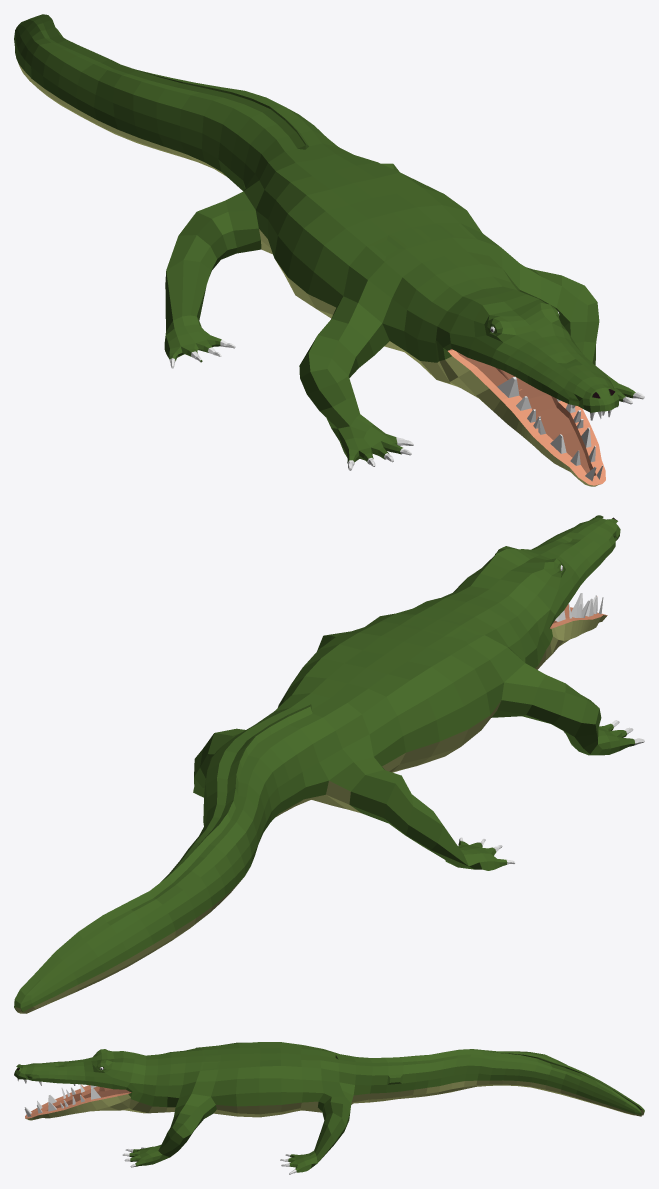
The model's file is alligator.glb.
3 renders of one model, top to bottom at view 1: azimuth 30°, elevation 25°; view 2: azimuth 150°, elevation 25°; view 3: azimuth 270°, elevation 25°, orthographic. The views are drawn at different scales.
Parts seen in each view (by area): view 1: crocodile.004; view 2: crocodile.004; view 3: crocodile.004.
Boxes of the visible parts, x1,y1,x2,y2 form: crocodile.004: [14, 14, 644, 486]; crocodile.004: [14, 515, 644, 1013]; crocodile.004: [14, 1042, 644, 1174].
Size of the model in its own units: 1.39 by 0.6123 by 4.34.
